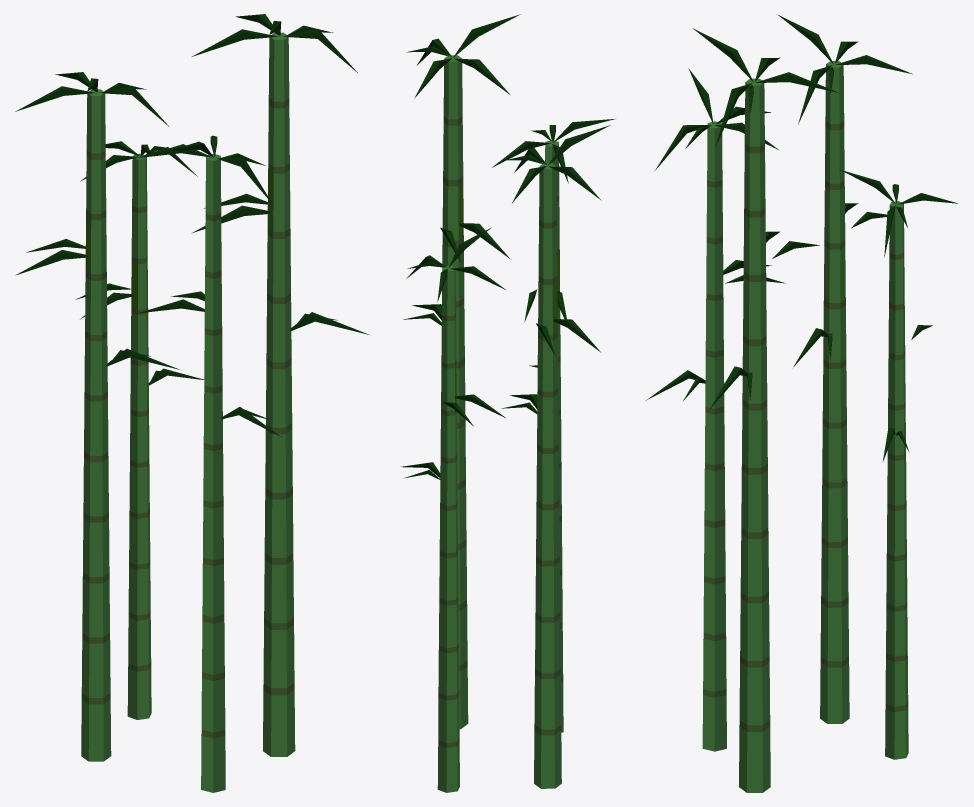
File: 대나무.fbx
3 renders of one model, left to right at view 1: azimuth 30°, elevation 25°; view 2: azimuth 150°, elevation 25°; view 3: azimuth 270°, elevation 25°, orthographic. The views are drawn at different scales.
Visible parts, largest first — view 1: Cylinder004; view 2: Cylinder004; view 3: Cylinder004.
Part boxes in pixels (box(x1,y1,x2,y2)): Cylinder004: box(15, 14, 369, 792); Cylinder004: box(401, 14, 614, 792); Cylinder004: box(646, 14, 957, 792).
Size of the model in its own units: 255 by 650 by 251.
